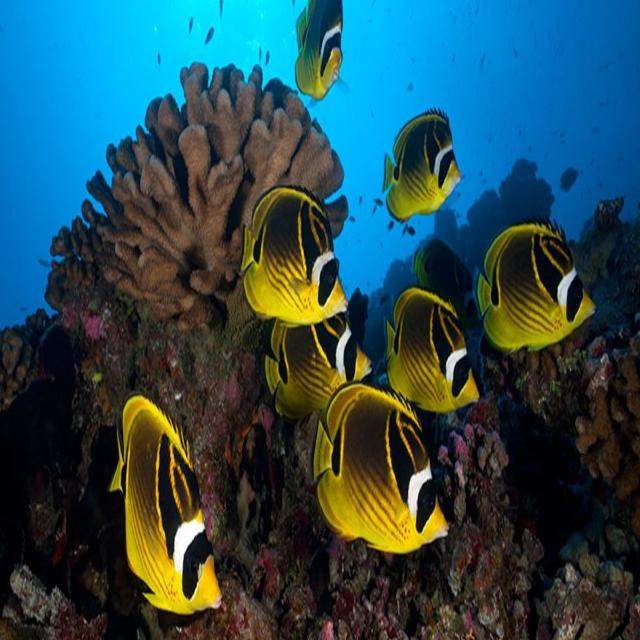ButterflyFish: (112, 399, 222, 617), (313, 388, 449, 556), (478, 222, 596, 352), (241, 185, 348, 325), (385, 290, 479, 411), (265, 311, 371, 398), (384, 109, 463, 223), (297, 0, 347, 101)
